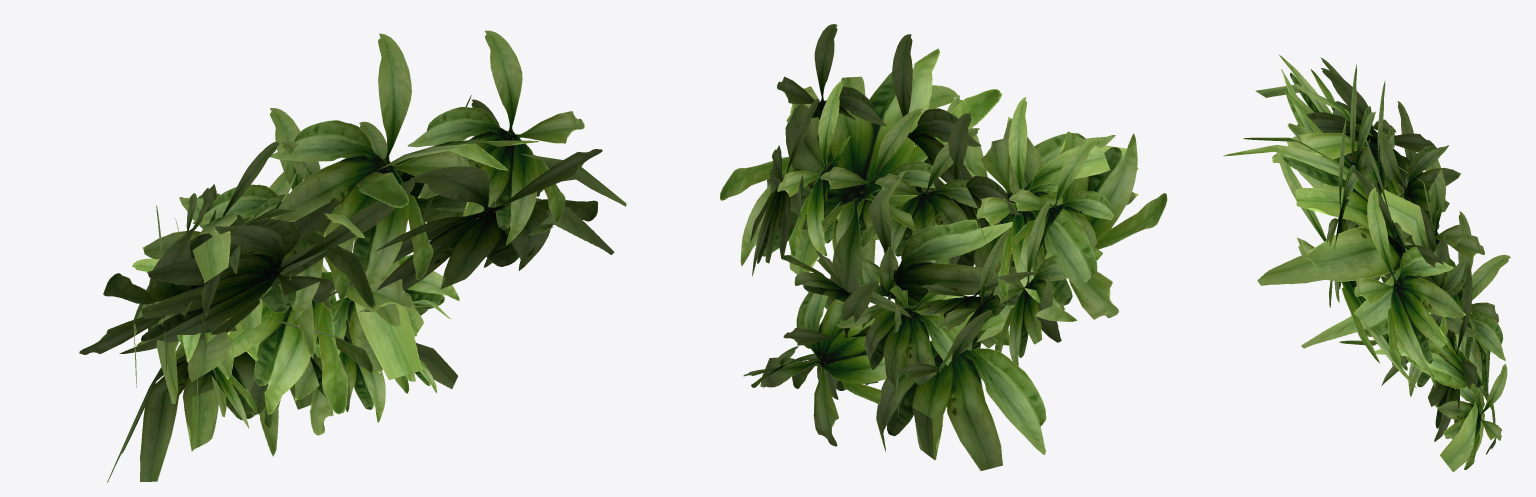
The model's file is IvyBushA_01_Low.FBX.
3 renders of one model, left to right at view 1: azimuth 30°, elevation 25°; view 2: azimuth 150°, elevation 25°; view 3: azimuth 270°, elevation 25°, orthographic. The views are drawn at different scales.
Parts seen in each view (by area): view 1: IvyBushA_01_Low; view 2: IvyBushA_01_Low; view 3: IvyBushA_01_Low.
Boxes of the visible parts, bbox=[...] form: IvyBushA_01_Low: bbox=[79, 30, 626, 482]; IvyBushA_01_Low: bbox=[720, 24, 1167, 470]; IvyBushA_01_Low: bbox=[1222, 55, 1510, 472].
Bounding box in the file's own units: 2.77 × 2.34 × 1.59.
